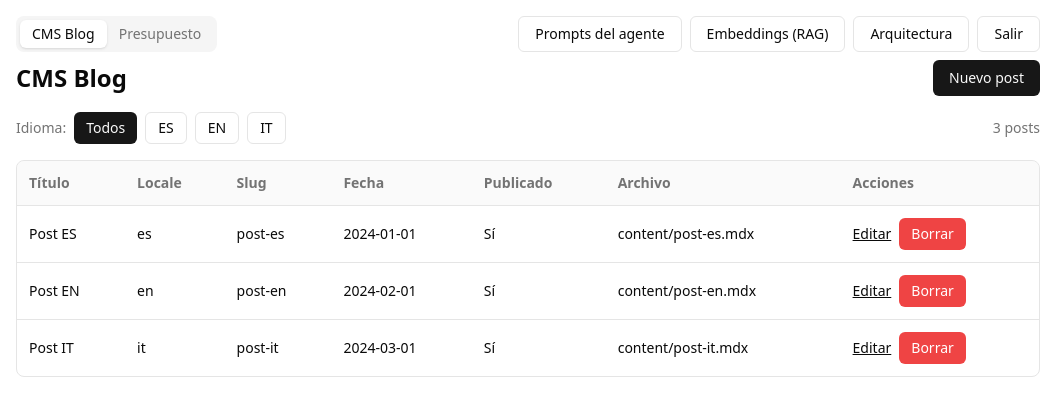
AdminDashboardTabs › locale filter › returns to 'Todos' when the last selected locale is toggled off
This screenshot has width=1057, height=394.
Click the button "ES": coordinates (166, 128) [145,112,187,144]
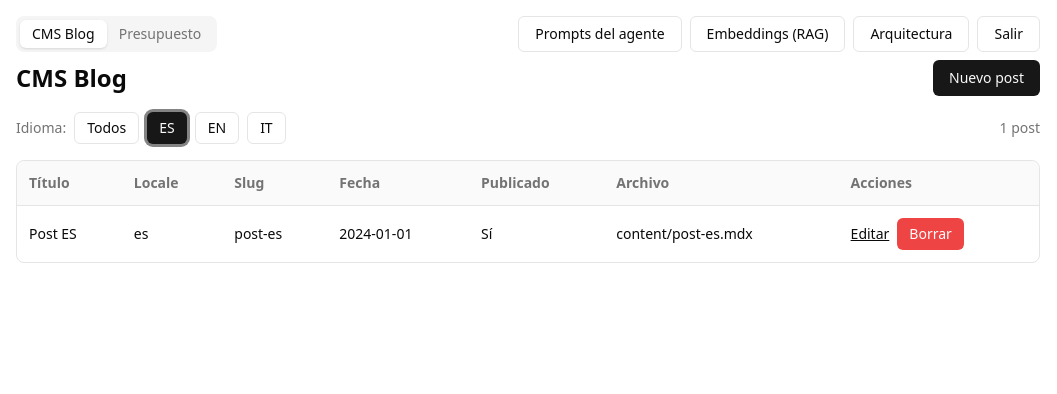
Type keys "{Control>}"
Click the button "ES": coordinates (167, 128) [147,112,187,144]
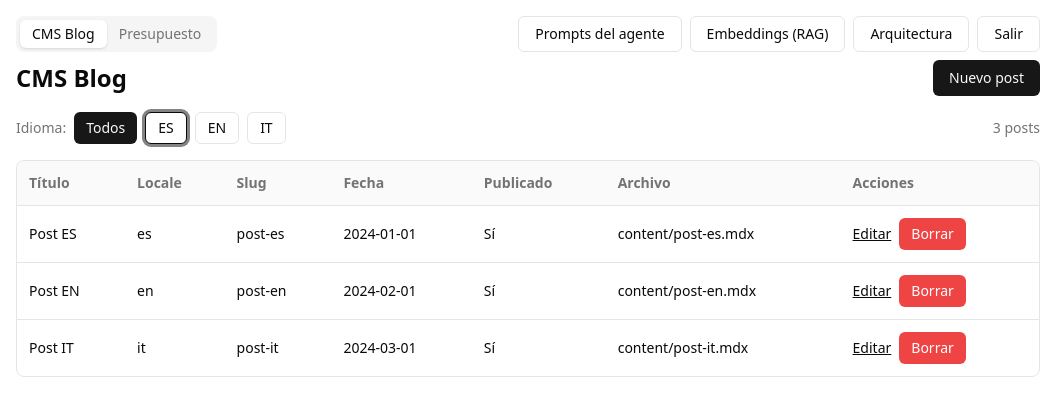
Type keys "{/Control}"
Check: the button "Todos" is pressed, box [74,112,137,144]
